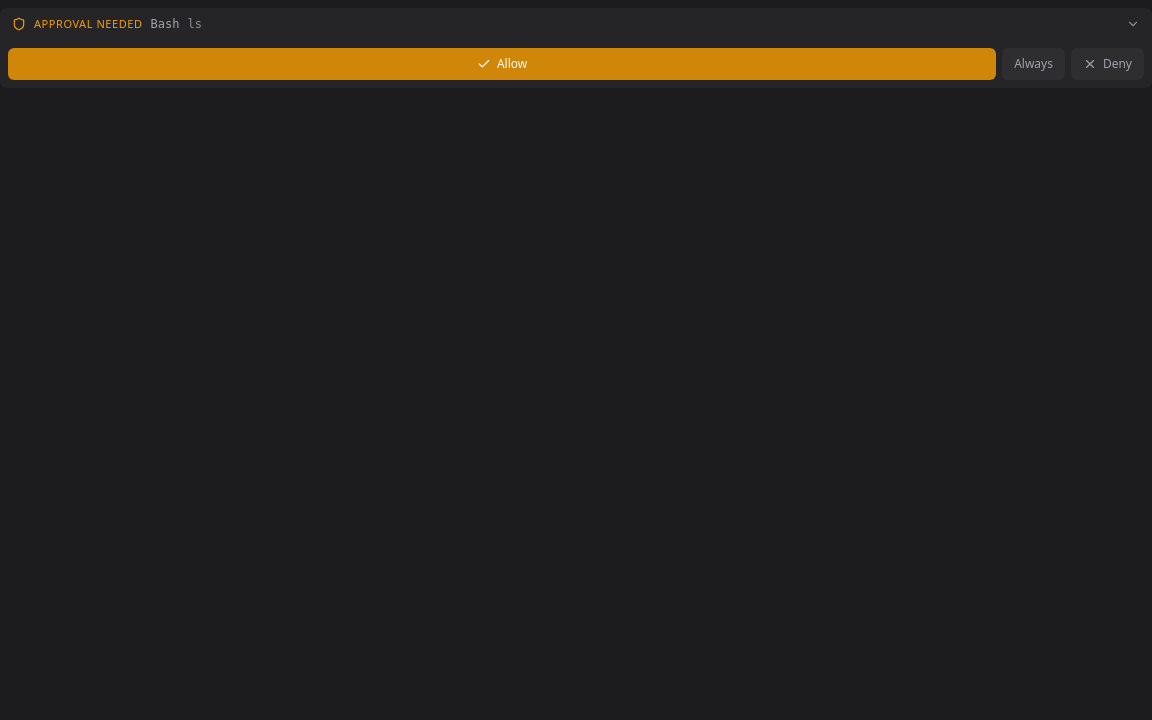
Test: ApprovalCard (benign) › hides bookkeeping keys whose name starts with _aoe_ when expanded
Click the button "Approval needed Bash ls": [88, 24] box [0, 8, 1151, 40]
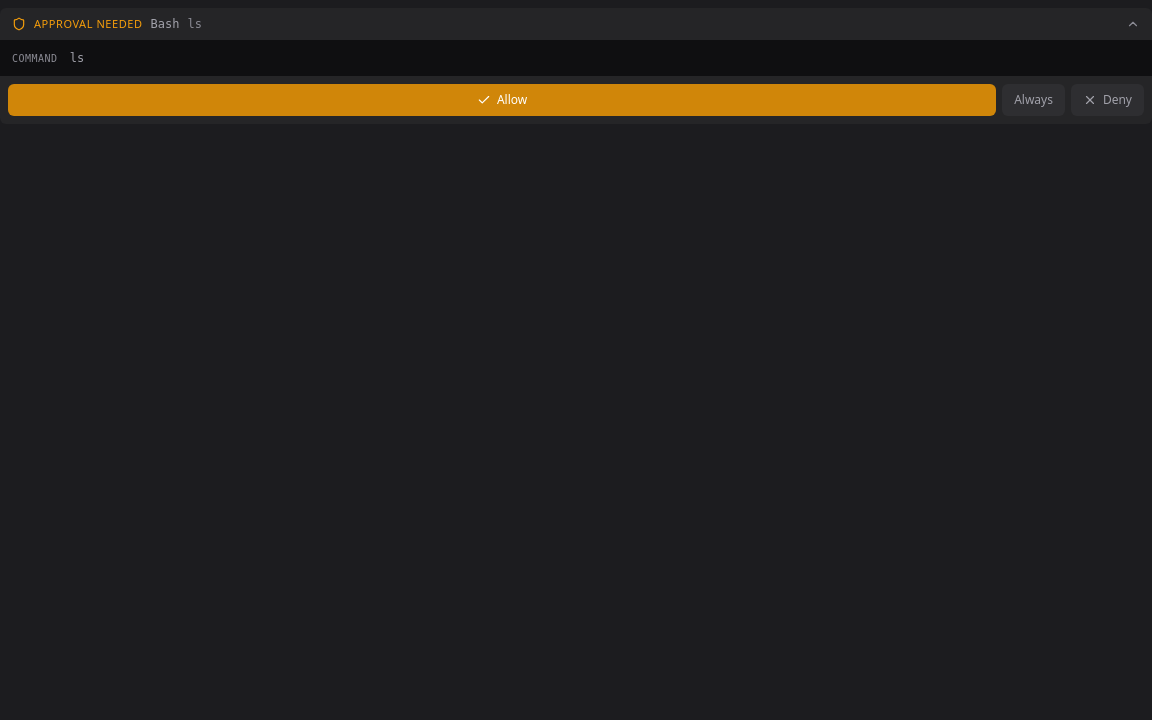
Expected: the text "command" is shown, [12, 50, 58, 65]
